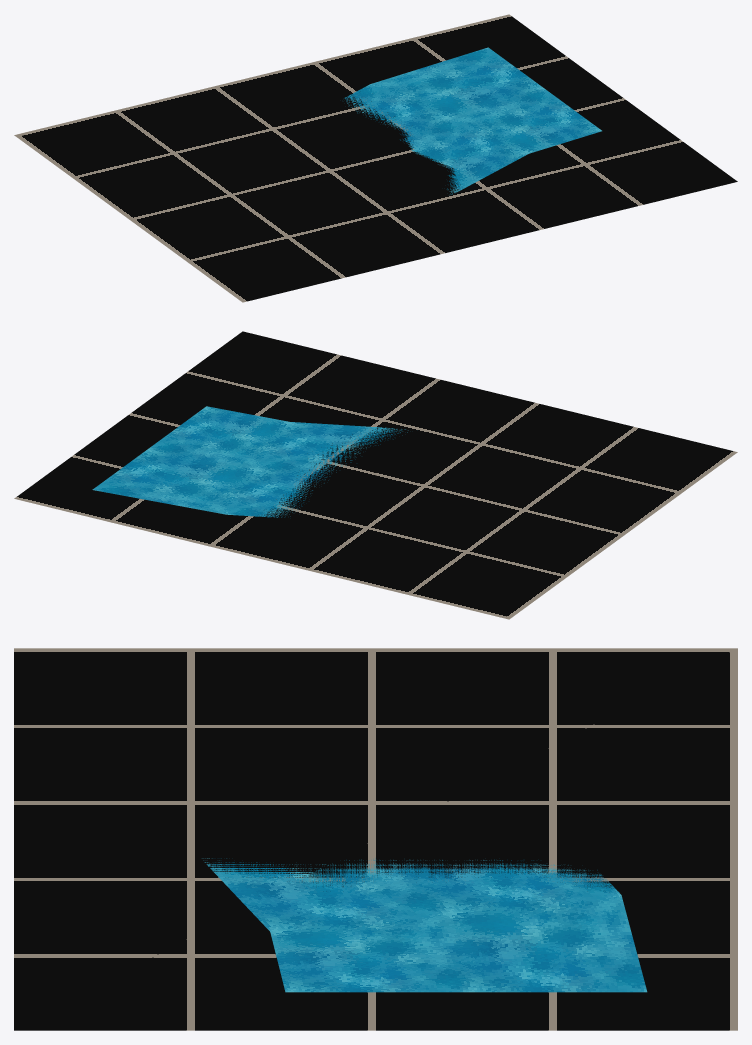
Rendered from Terrain_Water_River_Esse_CCW_3x4.glb.
The picture shows the model from 3 angles, top to bottom: view 1: azimuth 30°, elevation 25°; view 2: azimuth 150°, elevation 25°; view 3: azimuth 270°, elevation 25°; orthographic projection. The views are drawn at different scales.
Parts seen in each view (by area): view 1: Floor, Terrain_Water_River_Esse_CCW_3x4; view 2: Floor, Terrain_Water_River_Esse_CCW_3x4; view 3: Floor, Terrain_Water_River_Esse_CCW_3x4.
Part boxes in pixels (x1,y1,x2,y2): Floor: (14, 14, 737, 302); Terrain_Water_River_Esse_CCW_3x4: (344, 47, 601, 194); Floor: (14, 331, 737, 619); Terrain_Water_River_Esse_CCW_3x4: (92, 406, 408, 517); Floor: (14, 648, 737, 1030); Terrain_Water_River_Esse_CCW_3x4: (202, 858, 647, 992).
Size of the model in its own units: 500 by 0.000143 by 400.
Materials: 2 (2 with a texture image).
